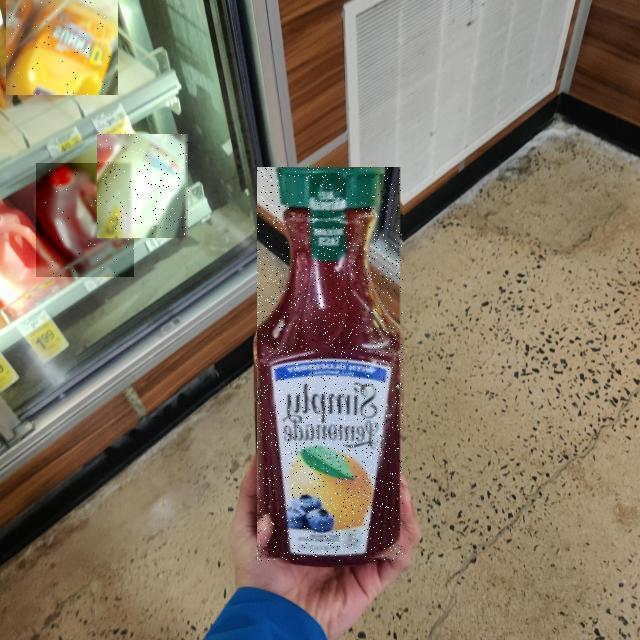Juice: (258, 168, 404, 562), (36, 163, 134, 277), (6, 0, 118, 95), (98, 134, 190, 238)
